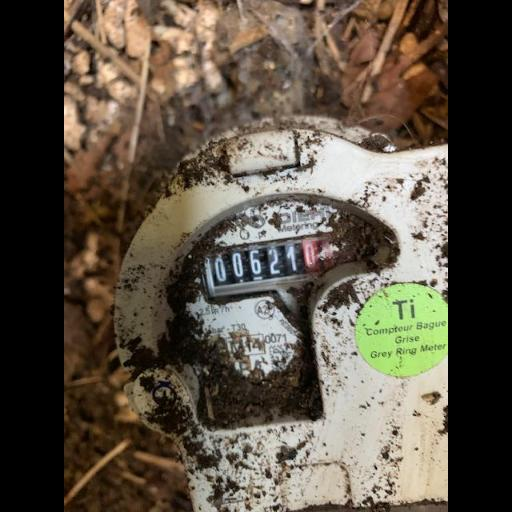0: (208, 253, 233, 287), (228, 251, 253, 285), (300, 241, 322, 275)
1: (283, 243, 305, 277)
2: (265, 245, 287, 279)
6: (247, 248, 269, 282)
border_water_meter_number: (197, 229, 352, 306)
